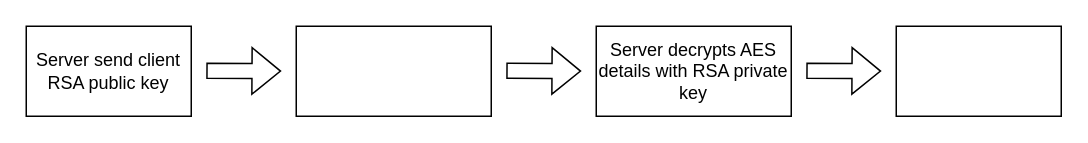
Image size: 1088x143. Some labels were removed from this diagram. Each missing label, with the box of its shape:
Client sends server AES details encrypted with RSA key: (295, 25, 491, 116)
Server and client can communicate using AES: (895, 25, 1061, 116)
